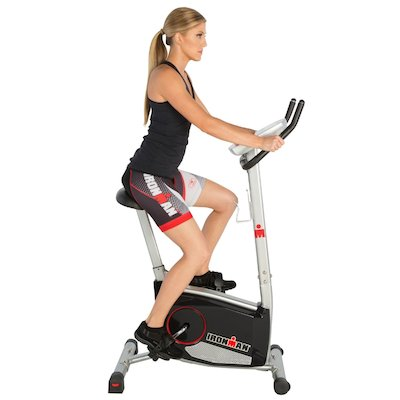gym_bike: (105, 99, 315, 392)
